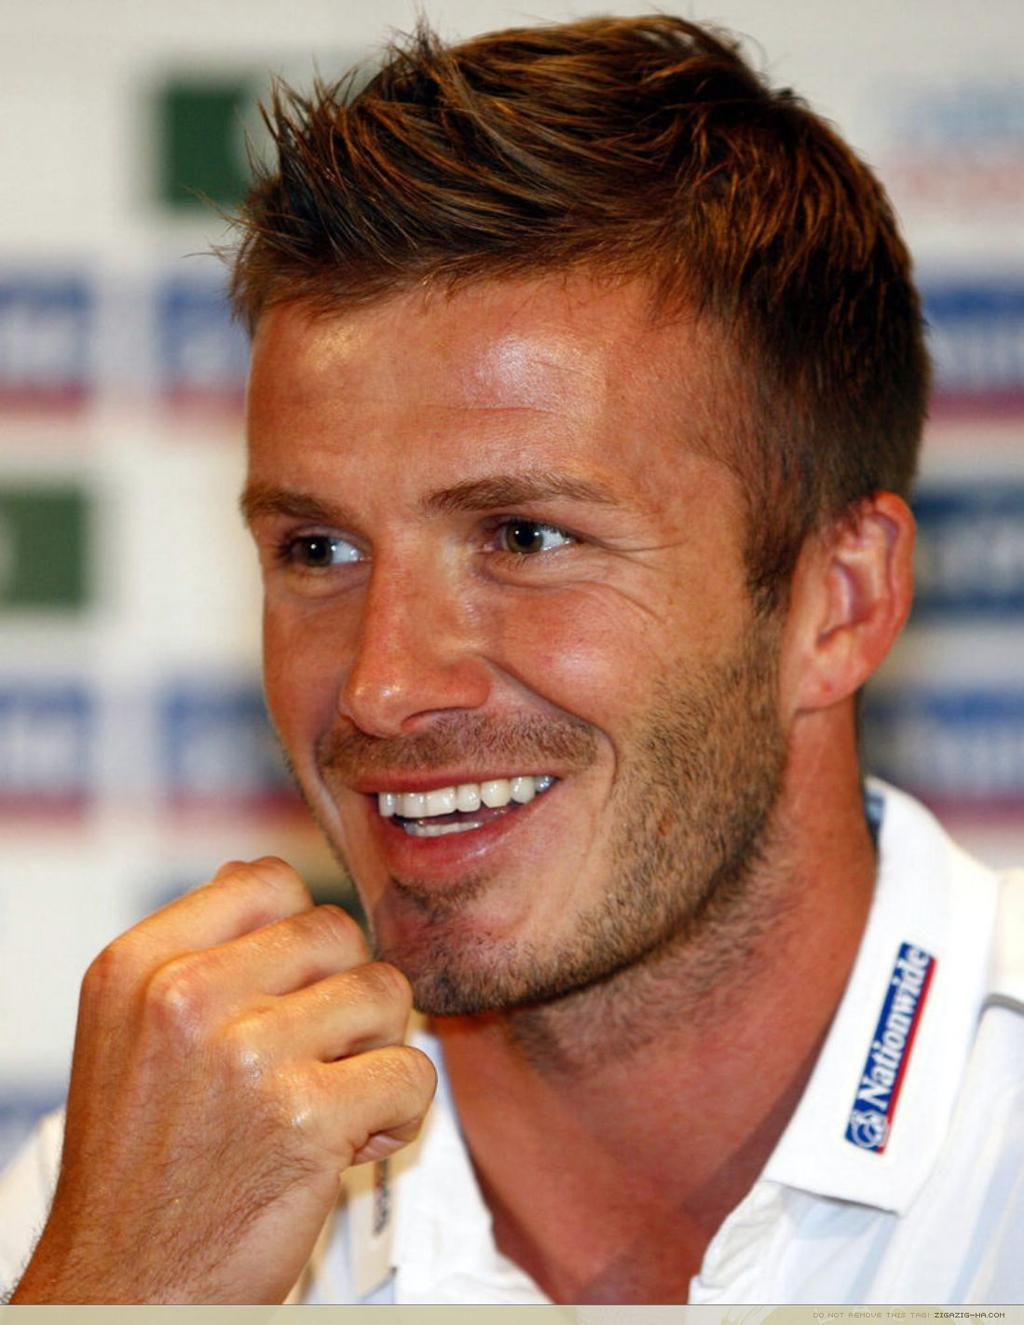face: (248, 295, 794, 1011)
